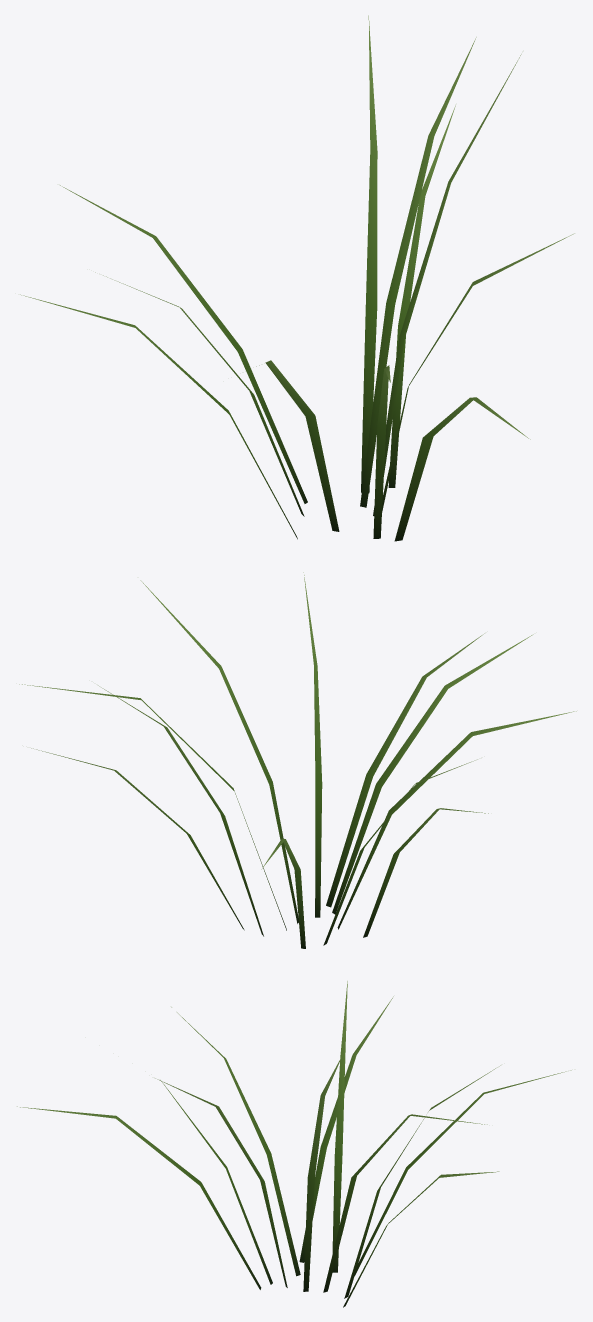
Rendered from b612_veg_VL_Grass_Meadow_A_1.glb.
3 renders of one model, top to bottom at view 1: azimuth 30°, elevation 25°; view 2: azimuth 150°, elevation 25°; view 3: azimuth 270°, elevation 25°, orthographic. The views are drawn at different scales.
Visible parts, largest first — view 1: Grass_Meadow_A_LOD1; view 2: Grass_Meadow_A_LOD1; view 3: Grass_Meadow_A_LOD1.
Boxes of the visible parts, bbox=[...] form: Grass_Meadow_A_LOD1: bbox=[20, 15, 574, 541]; Grass_Meadow_A_LOD1: bbox=[19, 572, 576, 948]; Grass_Meadow_A_LOD1: bbox=[17, 981, 571, 1307].
Bounding box in the file's own units: 0.5202 × 0.3826 × 0.6462.
